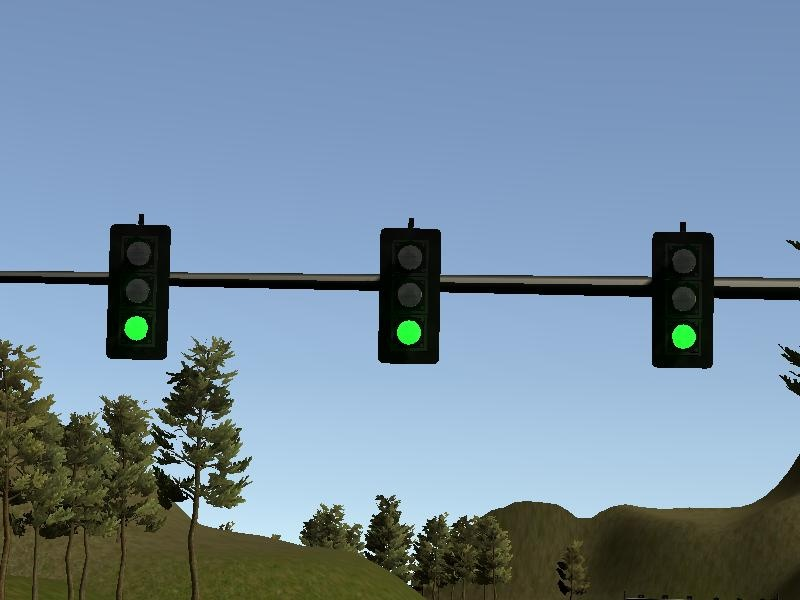green: (377, 227, 441, 365), (652, 231, 715, 369), (107, 226, 169, 361)
